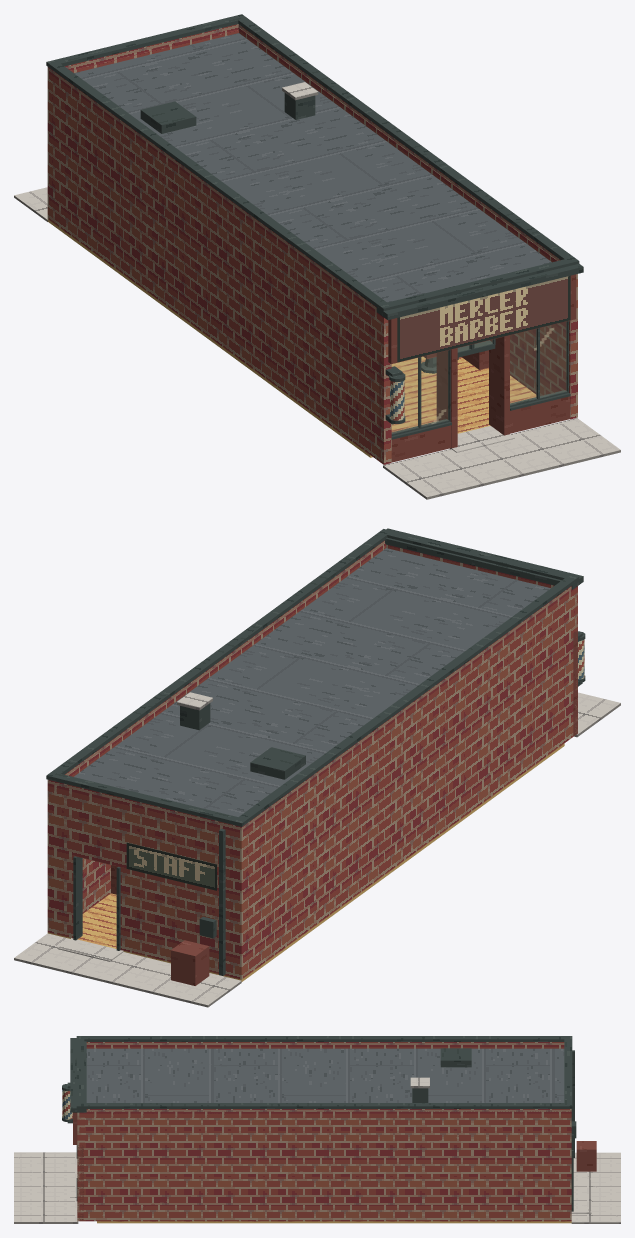
The model's file is barber-1940-mid.glb.
The picture shows the model from 3 angles, top to bottom: view 1: azimuth 30°, elevation 25°; view 2: azimuth 150°, elevation 25°; view 3: azimuth 270°, elevation 25°; orthographic projection. The views are drawn at different scales.
Parts seen in each view (by area): view 1: shell, lot, sign_name, fixed_interior; view 2: shell, lot, fixed_interior, sign_staff; view 3: shell, lot, fixed_interior.
Part boxes in pixels (x1,y1,x2,y2): shell: (46, 14, 583, 464); lot: (14, 187, 620, 499); sign_name: (397, 275, 570, 362); fixed_interior: (47, 219, 536, 457); shell: (46, 528, 585, 979); lot: (14, 692, 620, 1007); fixed_interior: (47, 743, 564, 981); sign_staff: (126, 842, 216, 890); shell: (62, 1036, 591, 1221); lot: (14, 1141, 620, 1223); fixed_interior: (97, 1221, 571, 1223).
Size of what is drawn, in the model's own units: 6.05 by 5.06 by 22.1.
11 materials, 11 textured.
